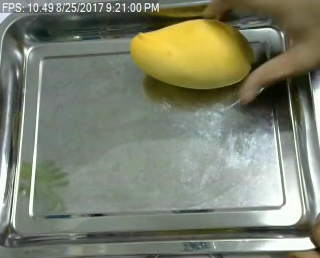Mango: (129, 16, 261, 91)
